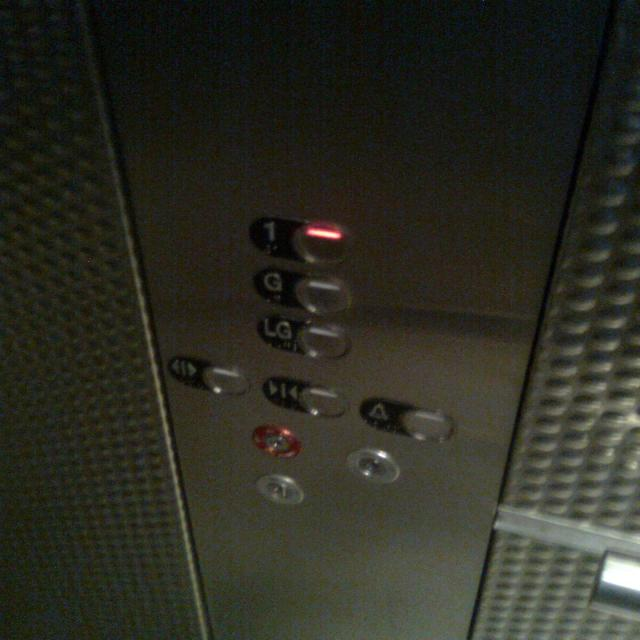1: (249, 215, 357, 267)
G: (252, 264, 356, 320)
LG: (255, 311, 352, 363)
alarm: (359, 394, 459, 444)
close: (261, 374, 349, 419)
keyhole: (249, 422, 300, 462), (344, 448, 398, 483), (253, 473, 304, 507)
open: (166, 352, 252, 400)
